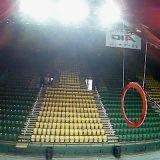Orange_Circle_GShape: (120, 80, 148, 128)
